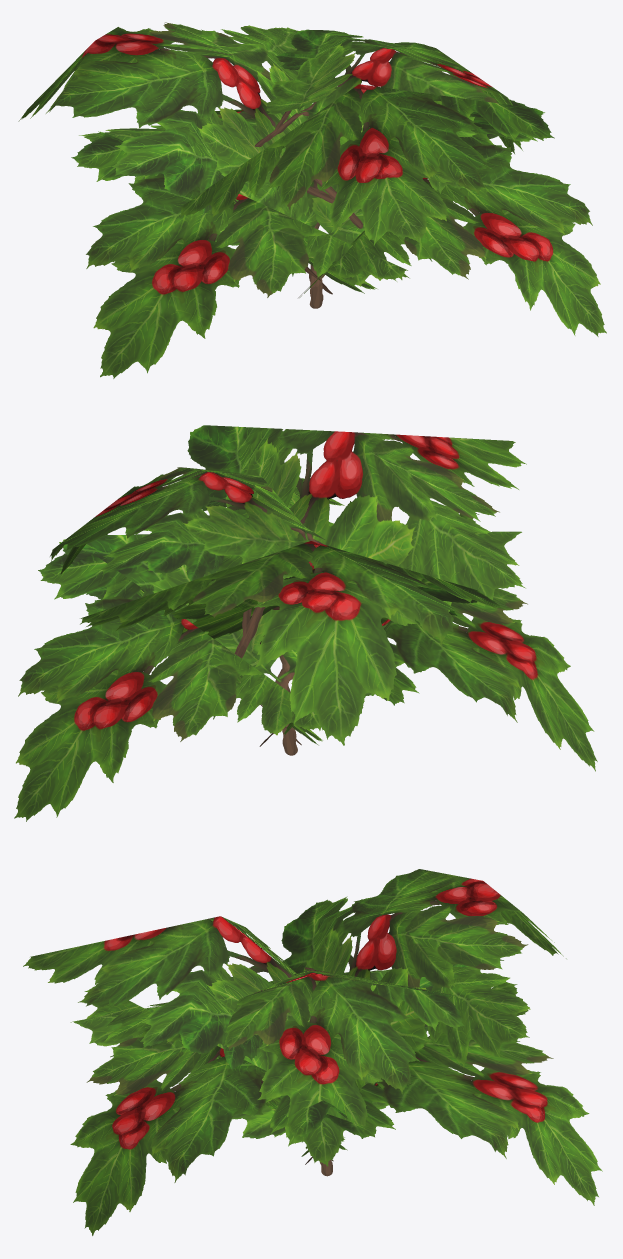
The model's file is P_Berries.fbx.
3 views of the same model, one above another, from view 1: azimuth 30°, elevation 25°; view 2: azimuth 150°, elevation 25°; view 3: azimuth 270°, elevation 25° (orthographic). The views are drawn at different scales.
Visible parts, largest first — view 1: P_Berries; view 2: P_Berries; view 3: P_Berries.
Boxes of the visible parts, <box> form: P_Berries: <box>18,22,606,378</box>; P_Berries: <box>14,425,597,821</box>; P_Berries: <box>23,869,602,1235</box>.
Bounding box in the file's own units: 162 × 85.16 × 179.
